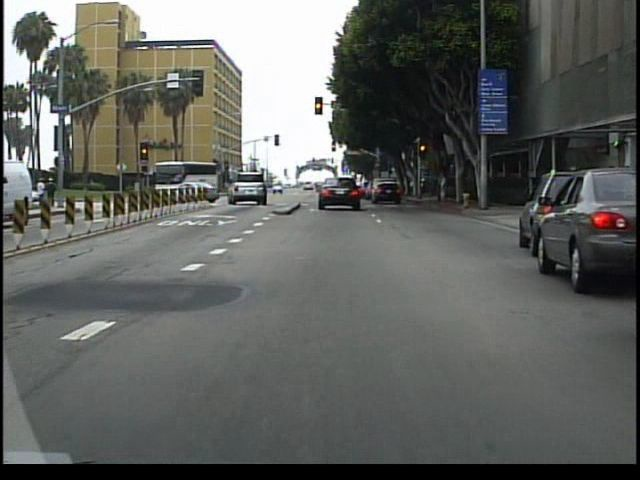person: (437, 167, 451, 204), (18, 172, 32, 207), (38, 176, 51, 212), (48, 174, 57, 203)
